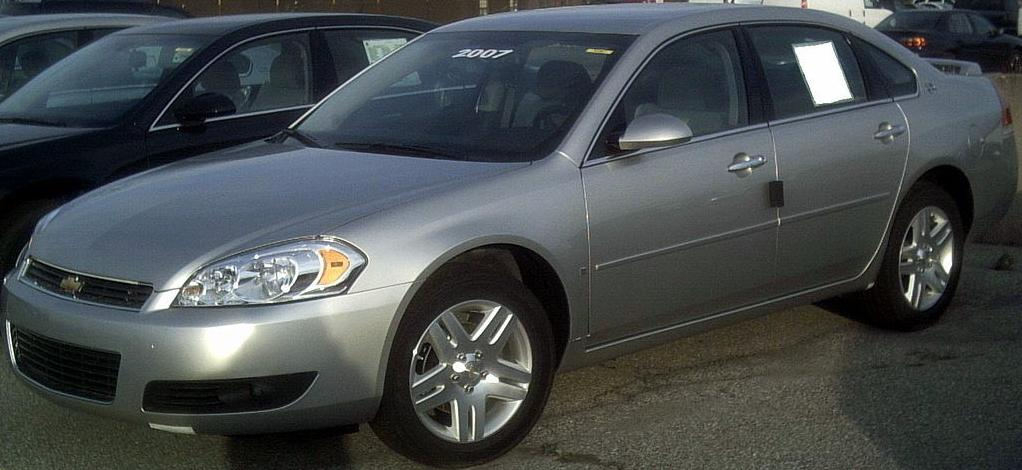front_view: (3, 192, 385, 438)
headlight: (163, 231, 388, 323)
side_glass: (605, 19, 928, 176)
